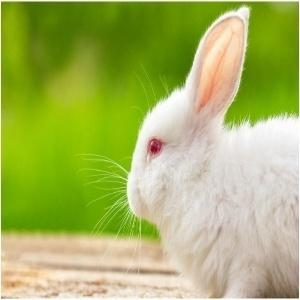rabbit: (127, 8, 299, 297)
